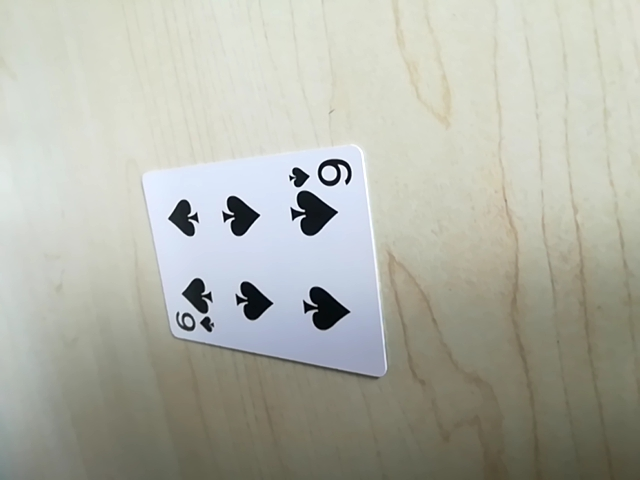ht 6: (287, 154, 354, 192), (169, 304, 217, 339)
